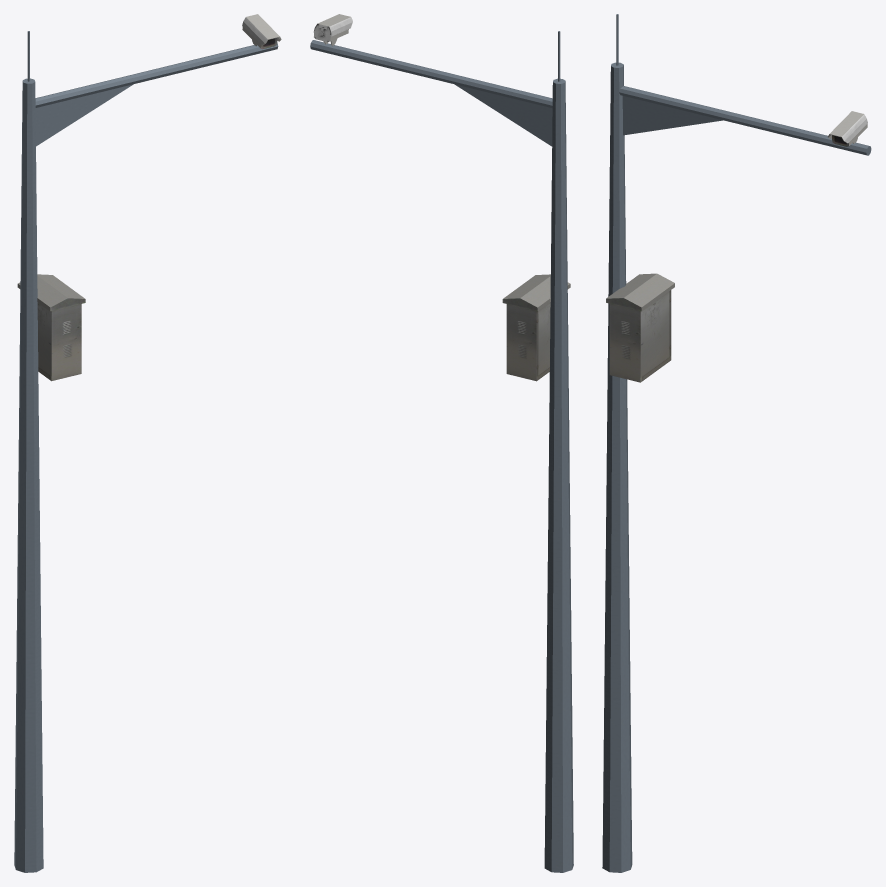
The model's file is SXT.gltf.
3 renders of one model, left to right at view 1: azimuth 30°, elevation 25°; view 2: azimuth 150°, elevation 25°; view 3: azimuth 330°, elevation 25°, orthographic. The views are drawn at different scales.
Visible parts, largest first — view 1: XL120101JKSS_039; view 2: XL120101JKSS_039; view 3: XL120101JKSS_039.
Part boxes in pixels (x1=…): XL120101JKSS_039: x1=14, y1=14, x2=281, y2=872; XL120101JKSS_039: x1=310, y1=14, x2=573, y2=872; XL120101JKSS_039: x1=602, y1=14, x2=871, y2=872.
Bounding box in the file's own units: 1.49 × 4.57 × 0.3247.
9 materials, 9 textured.
